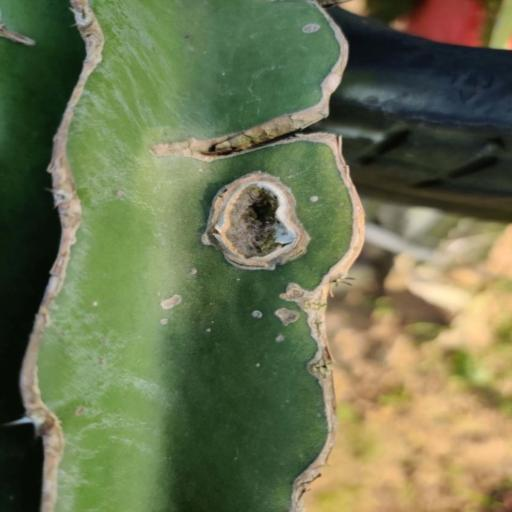stemcanker: (152, 25, 274, 90), (75, 273, 138, 342), (240, 298, 316, 352), (227, 354, 292, 414), (62, 388, 124, 439), (271, 8, 348, 43), (142, 290, 198, 338), (198, 313, 244, 362), (300, 164, 330, 222)
